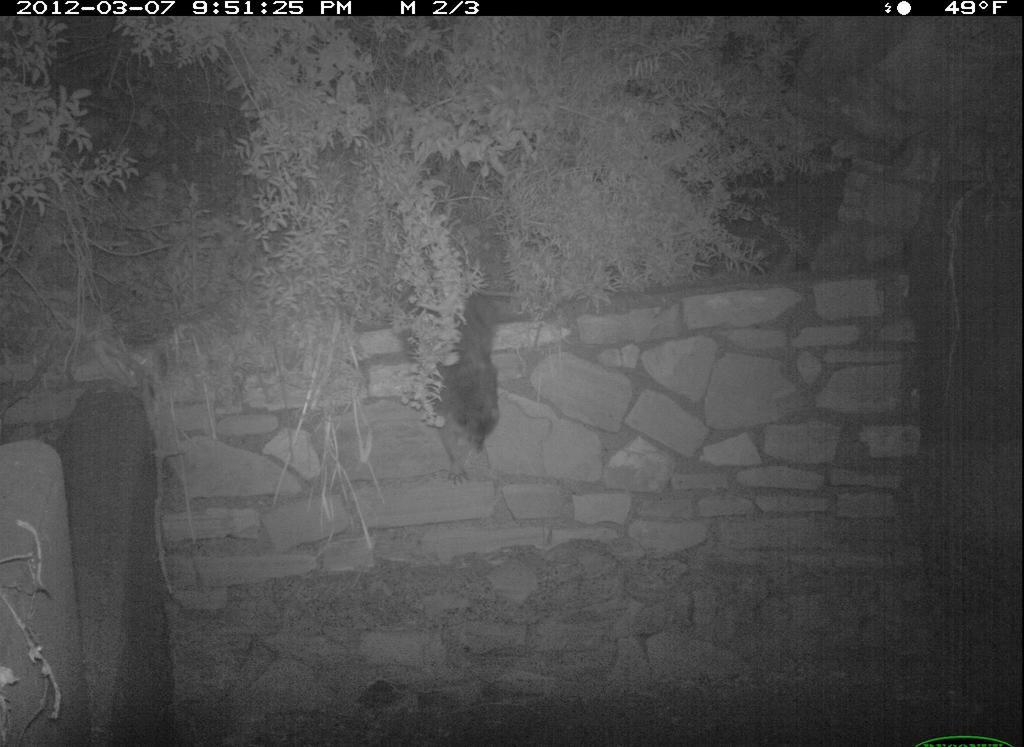raccoon: (392, 265, 513, 493)
